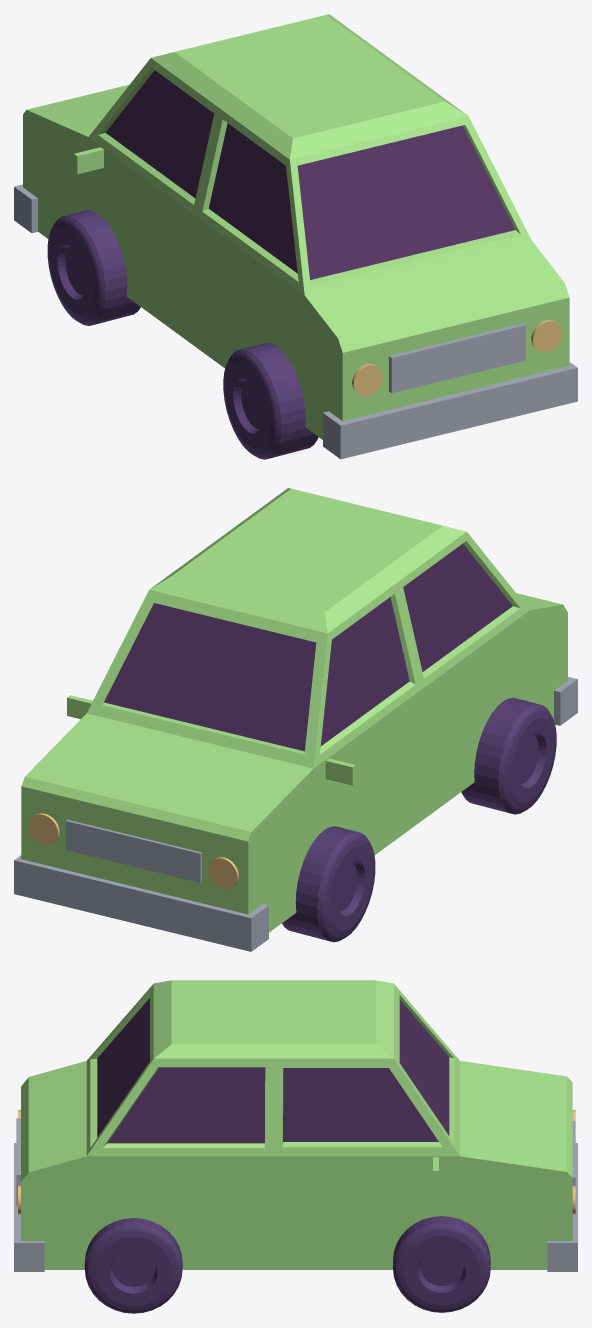
File: bil grøn.fbx
3 views of the same model, one above another, from view 1: azimuth 30°, elevation 25°; view 2: azimuth 150°, elevation 25°; view 3: azimuth 270°, elevation 25° (orthographic). The views are drawn at different scales.
Parts seen in each view (by area): view 1: Bil base, Bil base.001, metal ting.001, hjul.002, hjul.003, Cube.001, metal ting, lygte 2.001, lygte 1.001, Cube; view 2: Bil base, Bil base.001, metal ting, hjul.002, hjul.003, metal del på forsiden, metal ting.001, lygte 1, lygte 2, Cube; view 3: Bil base, Bil base.001, hjul, hjul.001, metal ting.001, metal ting.
Boxes of the visible parts, x1,y1,x2,y2 form: Bil base: [23, 14, 569, 439]; Bil base.001: [105, 70, 515, 279]; metal ting.001: [323, 362, 577, 459]; hjul.002: [223, 343, 318, 459]; hjul.003: [47, 210, 140, 325]; Cube.001: [389, 323, 525, 393]; metal ting: [14, 184, 37, 233]; lygte 2.001: [352, 363, 382, 396]; lygte 1.001: [531, 320, 562, 352]; Cube: [73, 147, 103, 174]; Bil base: [21, 488, 567, 932]; Bil base.001: [104, 543, 512, 751]; metal ting: [14, 855, 268, 951]; hjul.002: [461, 697, 556, 814]; hjul.003: [282, 826, 375, 942]; metal del på forsiden: [66, 819, 201, 882]; metal ting.001: [554, 677, 577, 725]; lygte 1: [29, 813, 59, 845]; lygte 2: [208, 857, 238, 889]; Cube: [325, 758, 355, 785]; Bil base: [21, 980, 572, 1269]; Bil base.001: [97, 998, 449, 1143]; hjul: [393, 1216, 490, 1312]; hjul.001: [84, 1218, 182, 1313]; metal ting.001: [14, 1143, 44, 1271]; metal ting: [547, 1143, 577, 1271].
Bounding box in the file's own units: 65.94 × 62.3 × 129.
